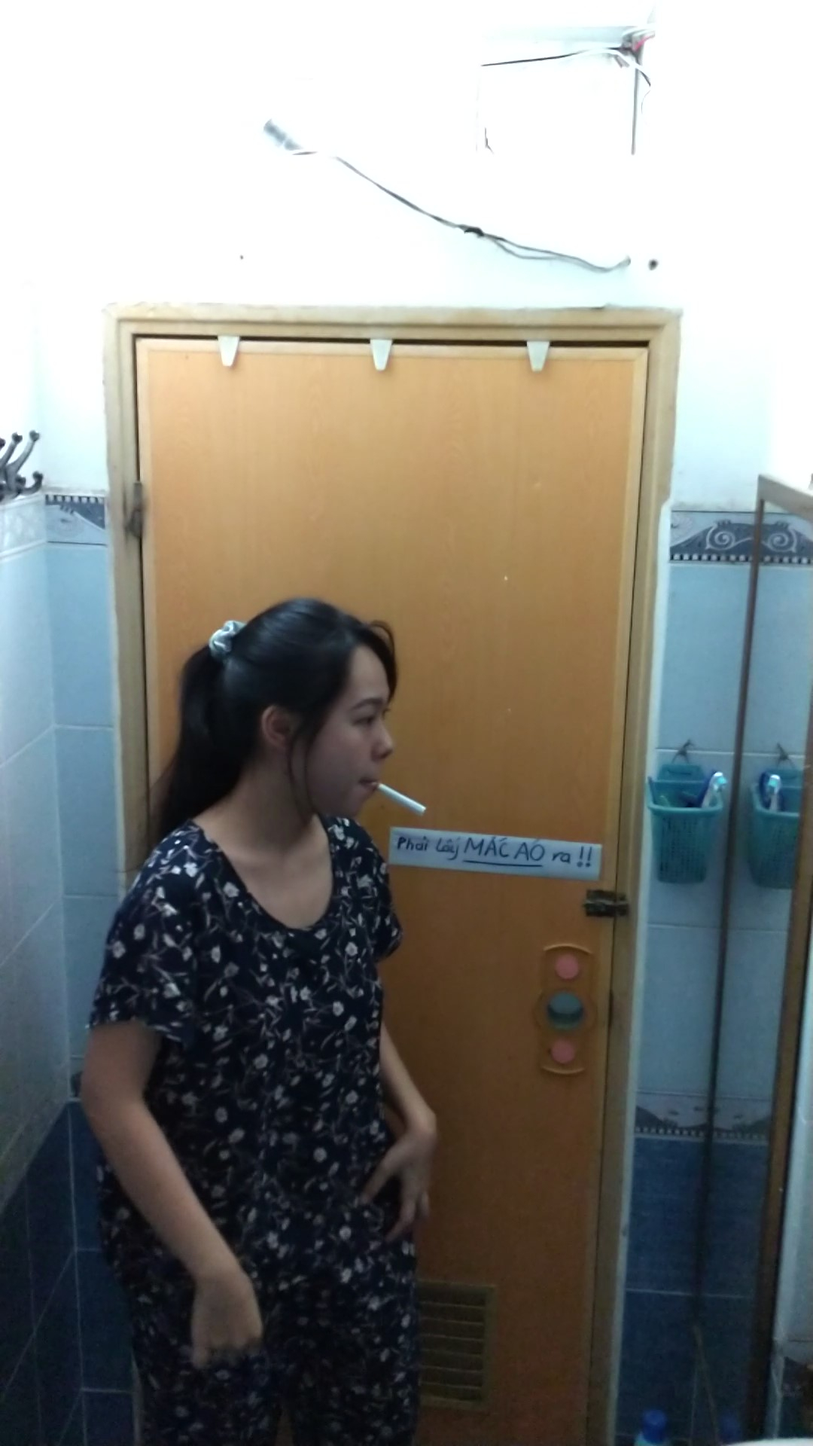cigarette: (370, 779, 433, 824)
person: (76, 581, 451, 1446)
